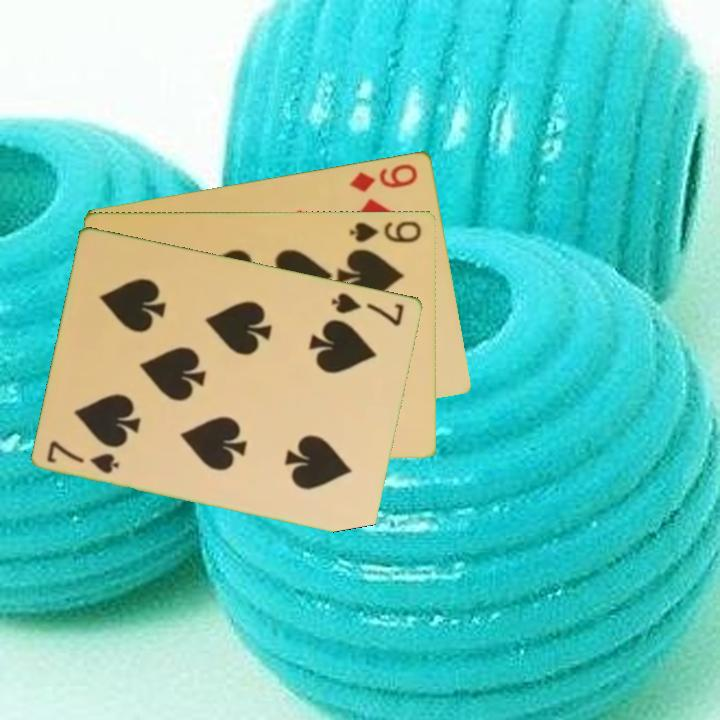7s: (328, 288, 408, 329), (44, 437, 123, 477)
9d: (347, 159, 421, 194)
9s: (347, 217, 425, 245)
